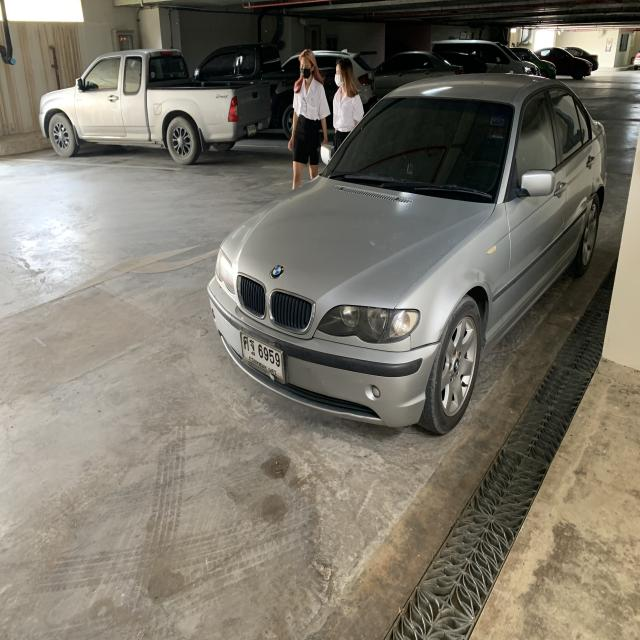license_plate: (238, 331, 288, 388)
